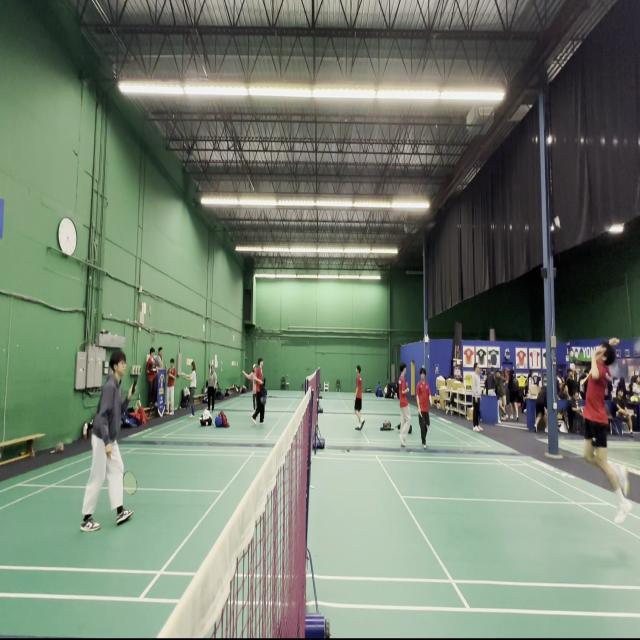shuttlecock: (553, 215, 562, 229)
